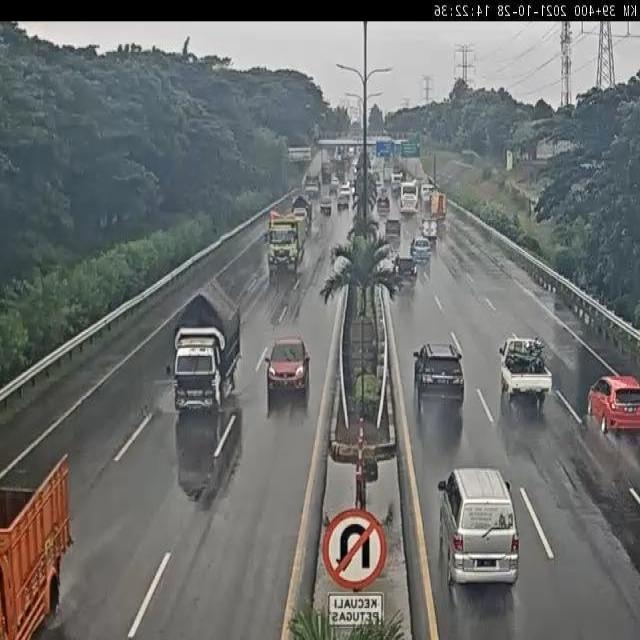Bus: (399, 180, 420, 215)
Car: (413, 342, 466, 410), (585, 373, 640, 435), (264, 336, 310, 408), (393, 254, 419, 290), (410, 236, 432, 266), (385, 216, 401, 241), (391, 170, 404, 190), (320, 196, 332, 215)
Truck: (0, 446, 69, 640), (172, 285, 241, 413), (498, 335, 554, 411), (266, 210, 306, 280), (290, 195, 312, 235), (428, 191, 446, 221), (304, 175, 320, 200), (422, 218, 438, 243), (420, 182, 436, 205)
Van: (438, 468, 519, 586)
